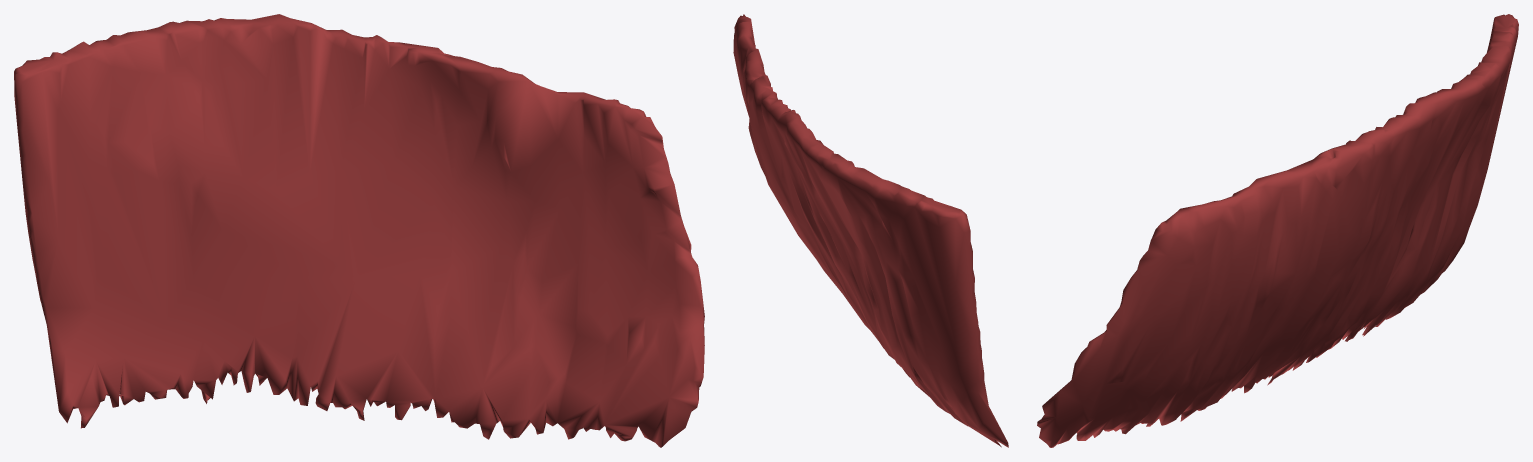
File: occipitalis-muscle-l.glb
The picture shows the model from 3 angles, left to right: view 1: azimuth 30°, elevation 25°; view 2: azimuth 150°, elevation 25°; view 3: azimuth 270°, elevation 25°; orthographic projection. The views are drawn at different scales.
Parts seen in each view (by area): view 1: Occipitalis muscle.l; view 2: Occipitalis muscle.l; view 3: Occipitalis muscle.l.
Boxes of the visible parts, left/top/right/bottom form: Occipitalis muscle.l: left=14, top=14, right=704, bottom=447; Occipitalis muscle.l: left=733, top=14, right=1008, bottom=447; Occipitalis muscle.l: left=1037, top=14, right=1518, bottom=447.
Bounding box in the file's own units: 0.0466 × 0.033 × 0.0466.
